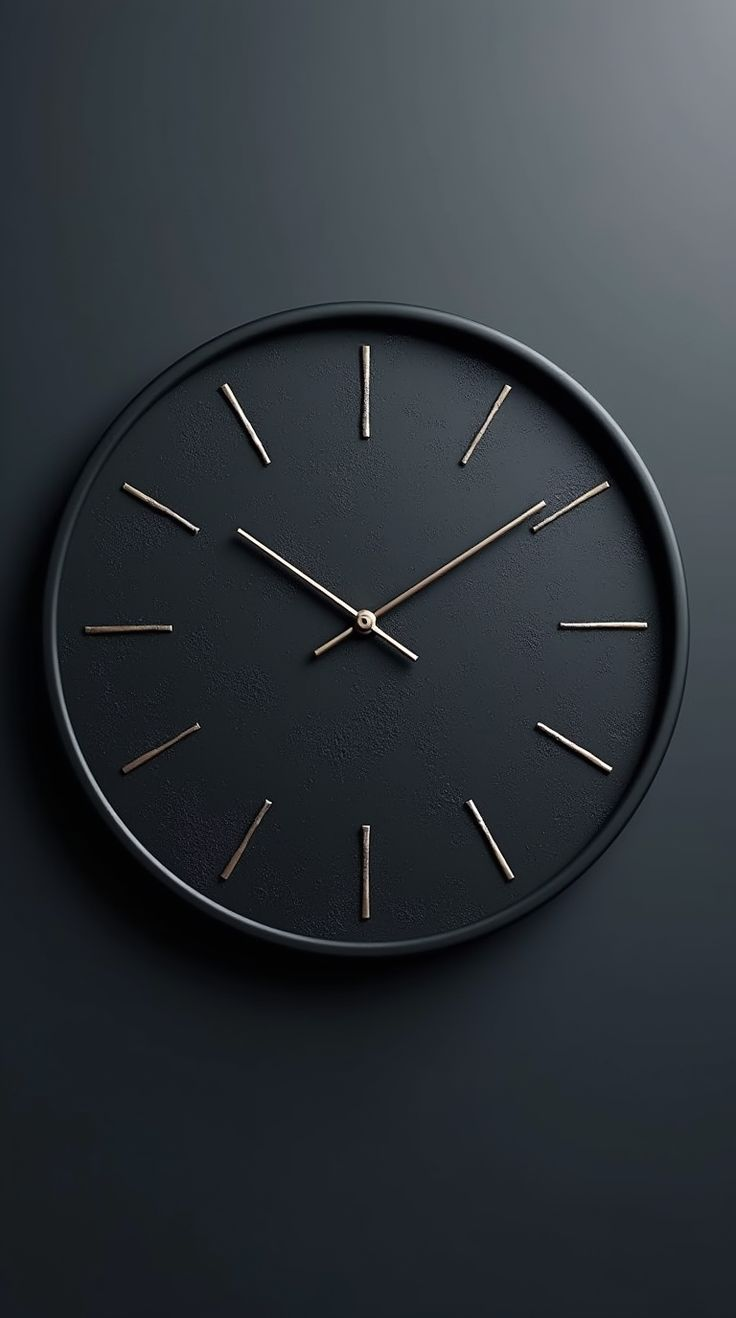clock: (12, 44, 730, 1104)
